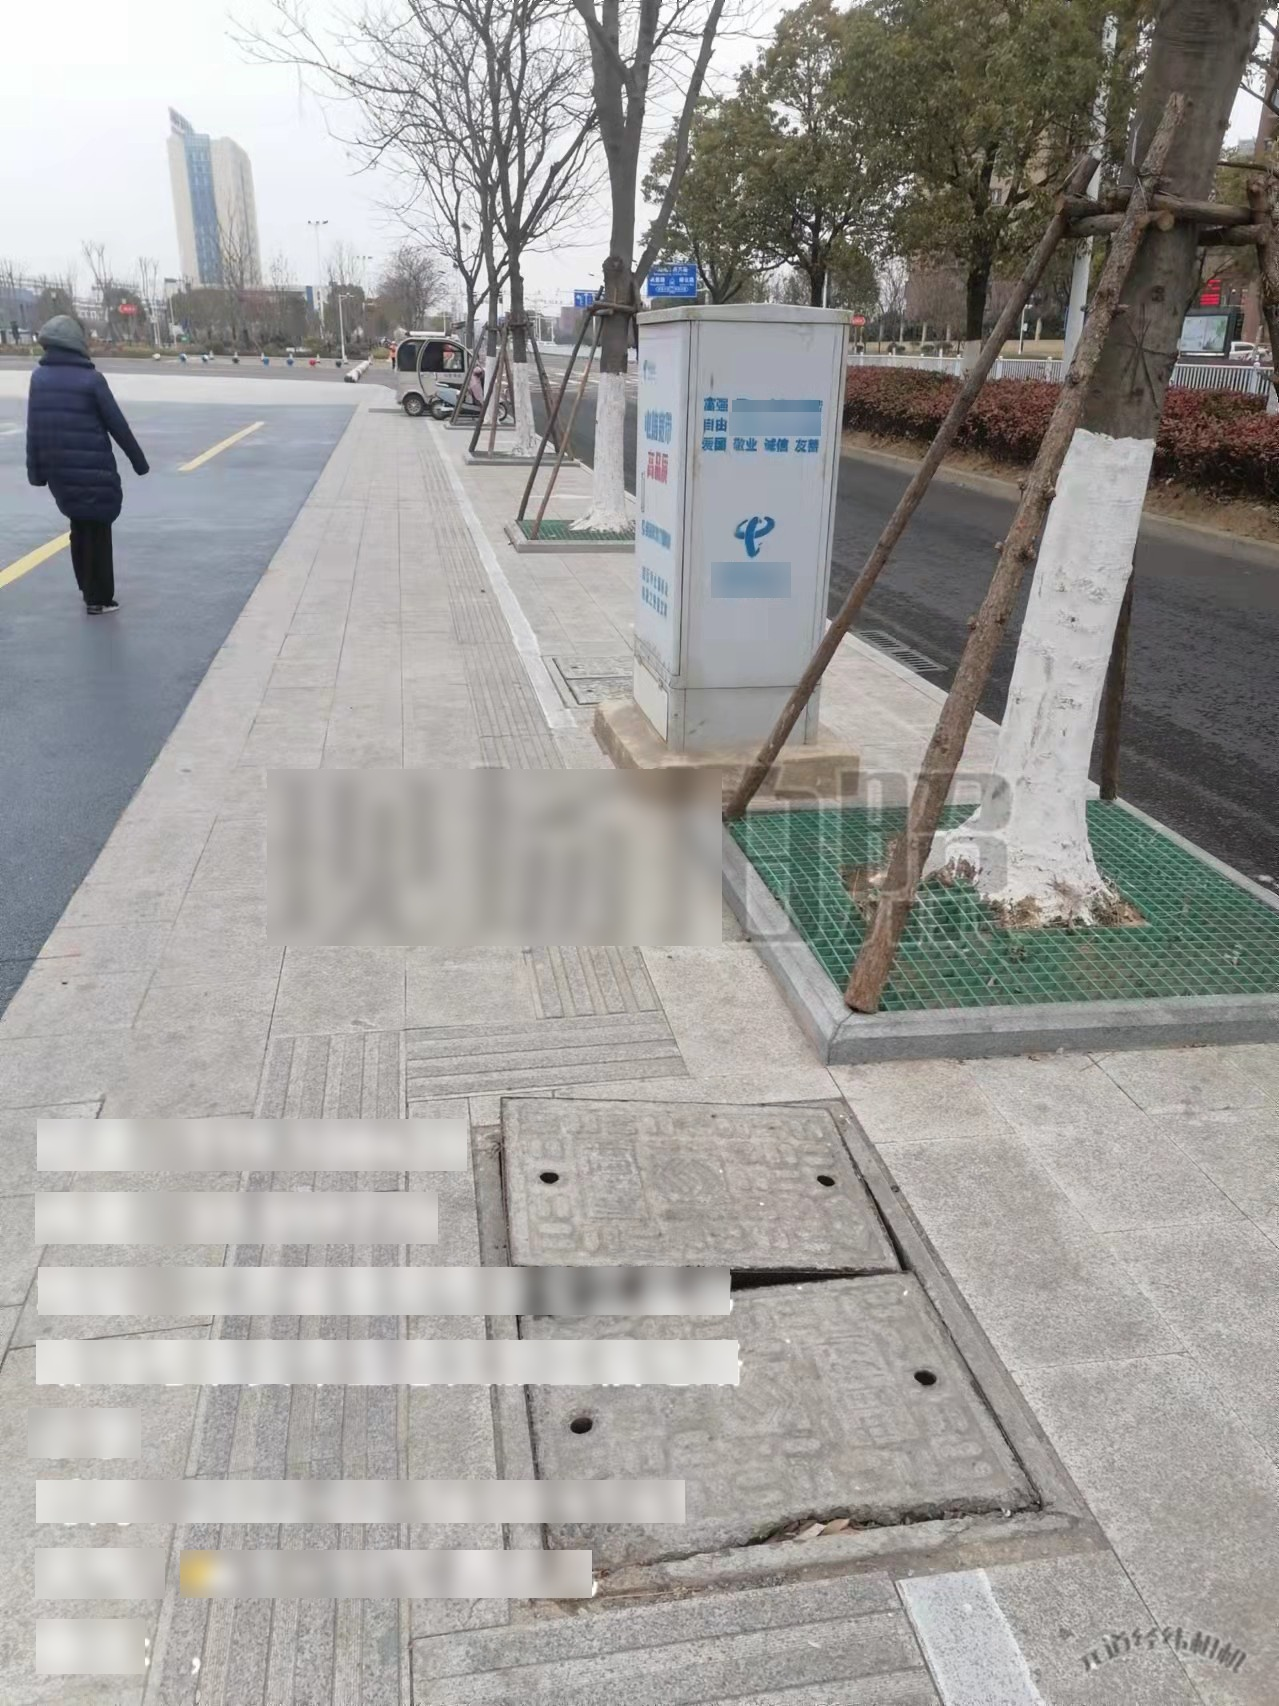uncovered: (458, 1089, 1116, 1617)
